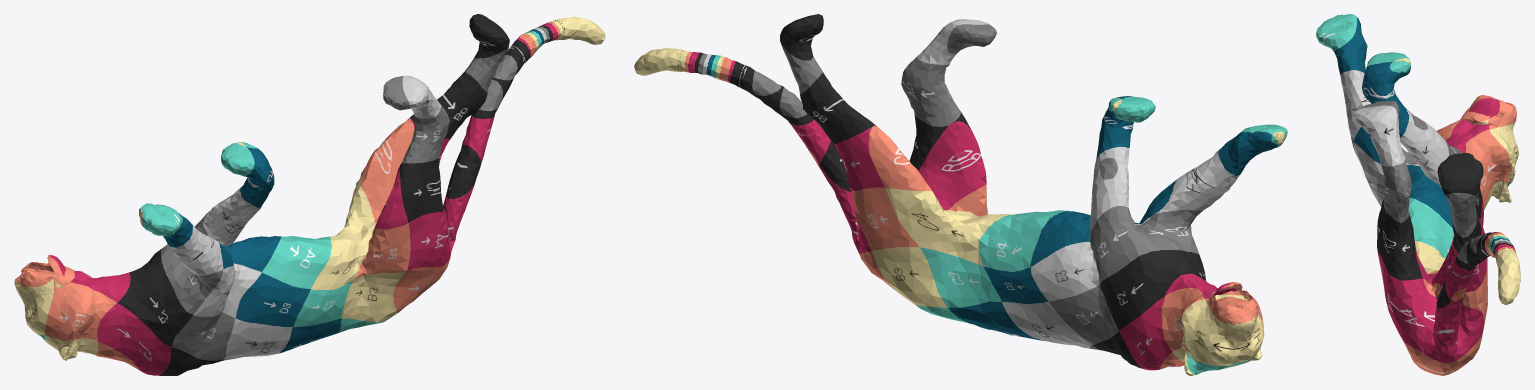
The model's file is horse_09-cougar_02.obj.
3 views of the same model, side by side, from view 1: azimuth 30°, elevation 25°; view 2: azimuth 150°, elevation 25°; view 3: azimuth 270°, elevation 25° (orthographic). The views are drawn at different scales.
Parts seen in each view (by area): view 1: horse_09-cougar_02_export; view 2: horse_09-cougar_02_export; view 3: horse_09-cougar_02_export.
Boxes of the visible parts, <box> form: horse_09-cougar_02_export: <box>14,14,605,375</box>; horse_09-cougar_02_export: <box>634,14,1287,375</box>; horse_09-cougar_02_export: <box>1316,14,1520,375</box>.
Bounding box in the file's own units: 1.32 × 0.5767 × 0.3827.
